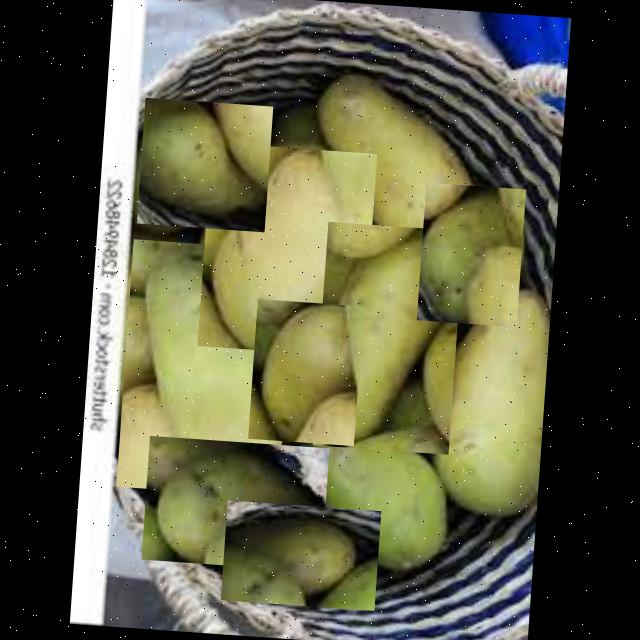Defected potato: (116, 238, 295, 497), (302, 58, 493, 266), (197, 141, 377, 356), (312, 221, 463, 454), (430, 271, 552, 537), (141, 434, 329, 570), (298, 414, 458, 569), (136, 96, 272, 231), (220, 499, 381, 609), (248, 298, 364, 444), (416, 181, 526, 326)
